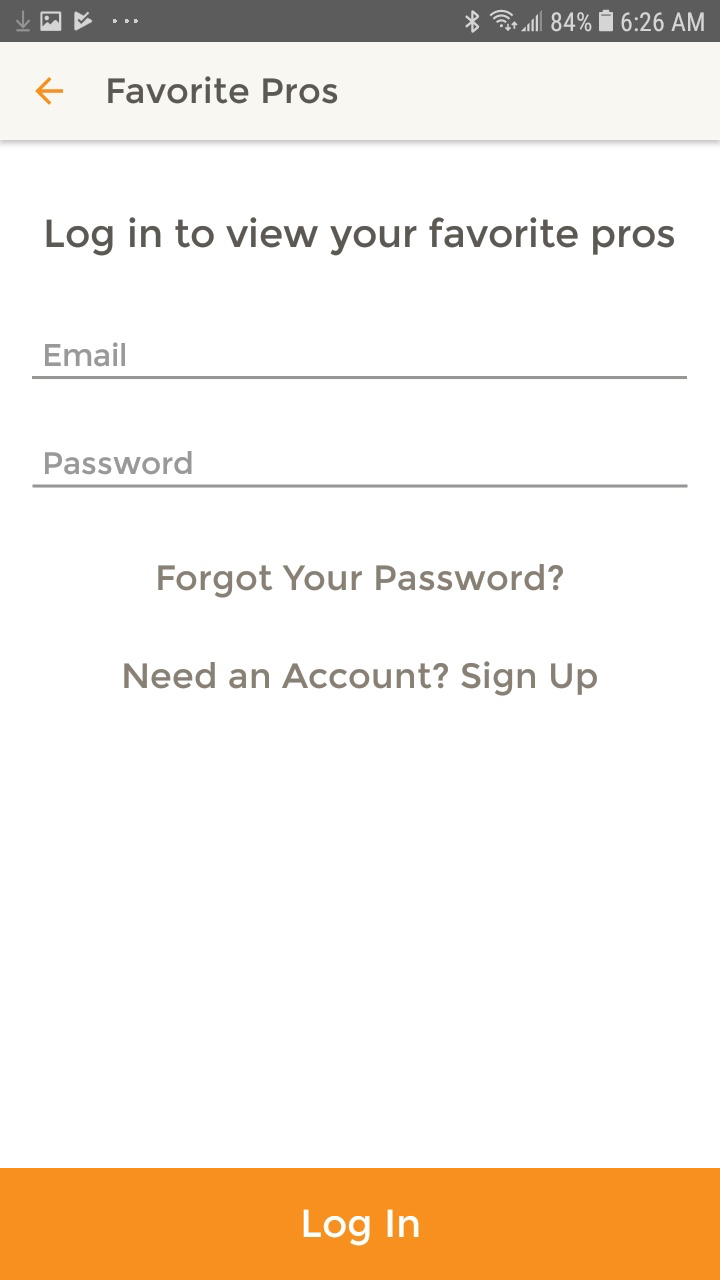EditText: (33, 451, 689, 490), (33, 342, 688, 380)
Icon: (35, 77, 65, 106)
Text: (47, 217, 675, 257), (124, 661, 598, 697), (158, 564, 564, 599), (108, 76, 338, 105), (45, 451, 193, 476), (45, 342, 127, 368)
TextButton: (1, 1168, 720, 1280)
UpperTaskBar: (1, 1, 720, 43)
